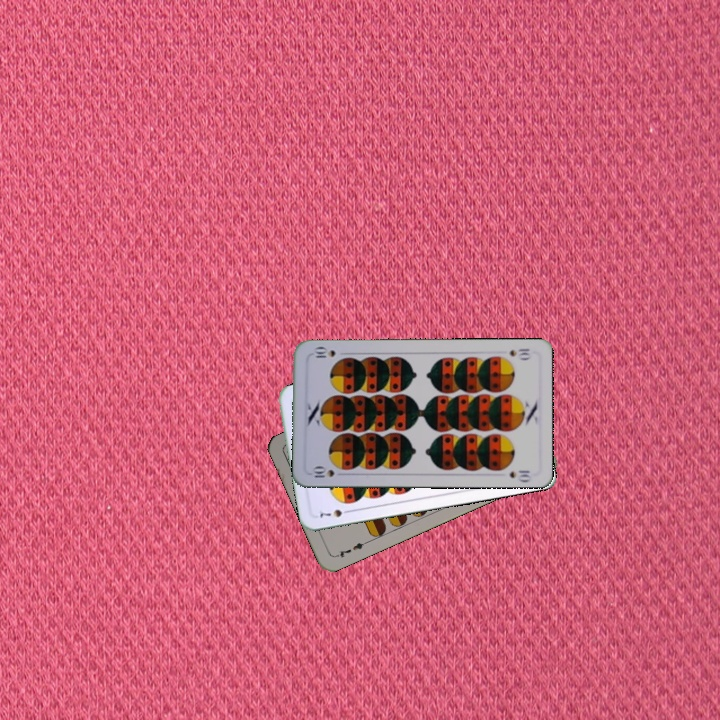E7: (331, 538, 370, 560)
S10: (308, 463, 347, 482), (505, 345, 533, 362)
S7: (316, 505, 354, 520)
